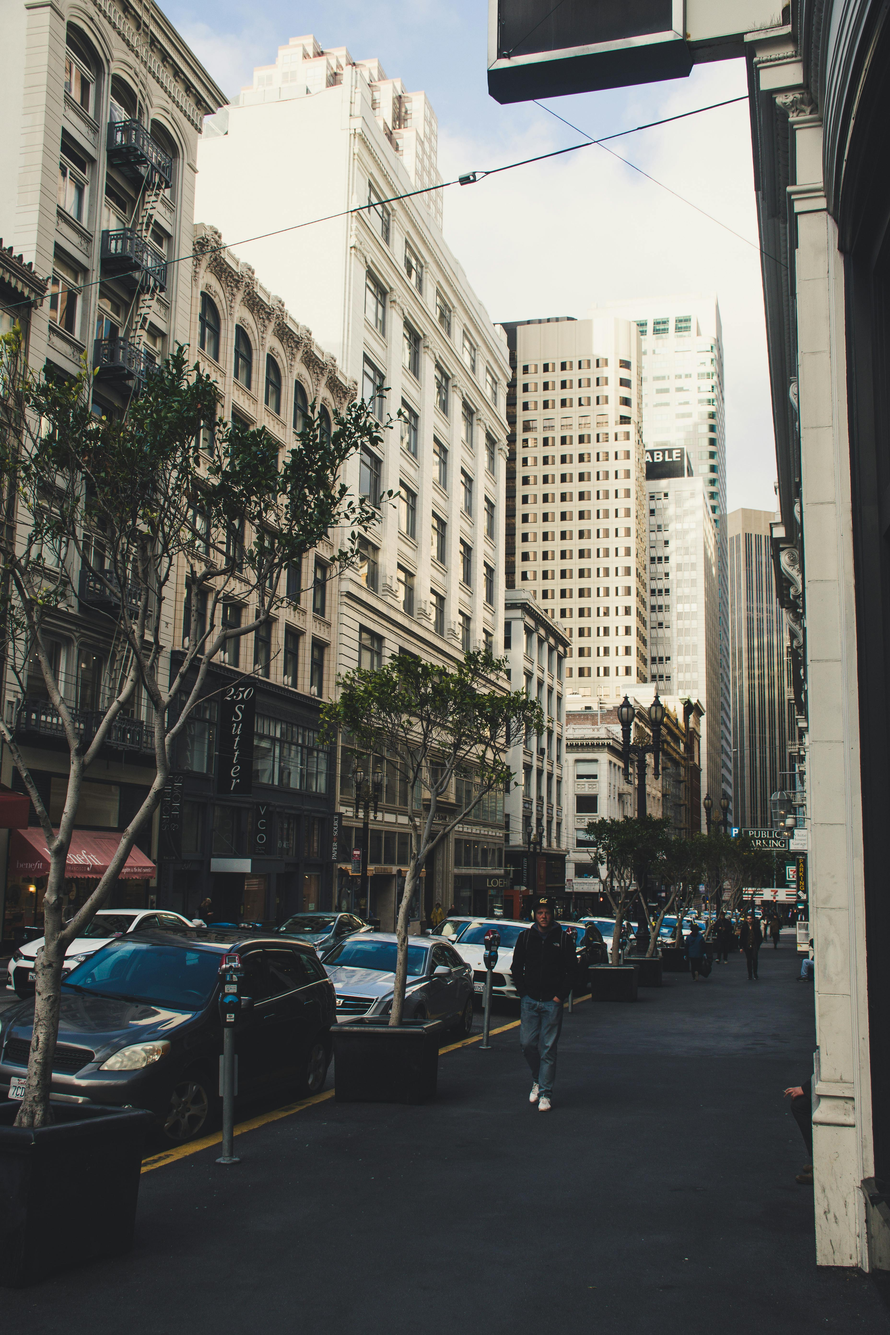other: (8, 941, 336, 1133), (320, 930, 465, 1048), (451, 910, 531, 1003)
